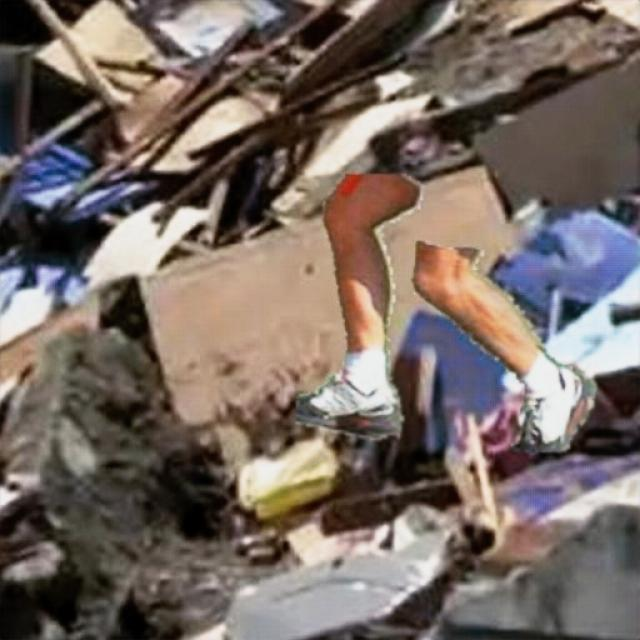Person in Rubble: (296, 174, 596, 452)
